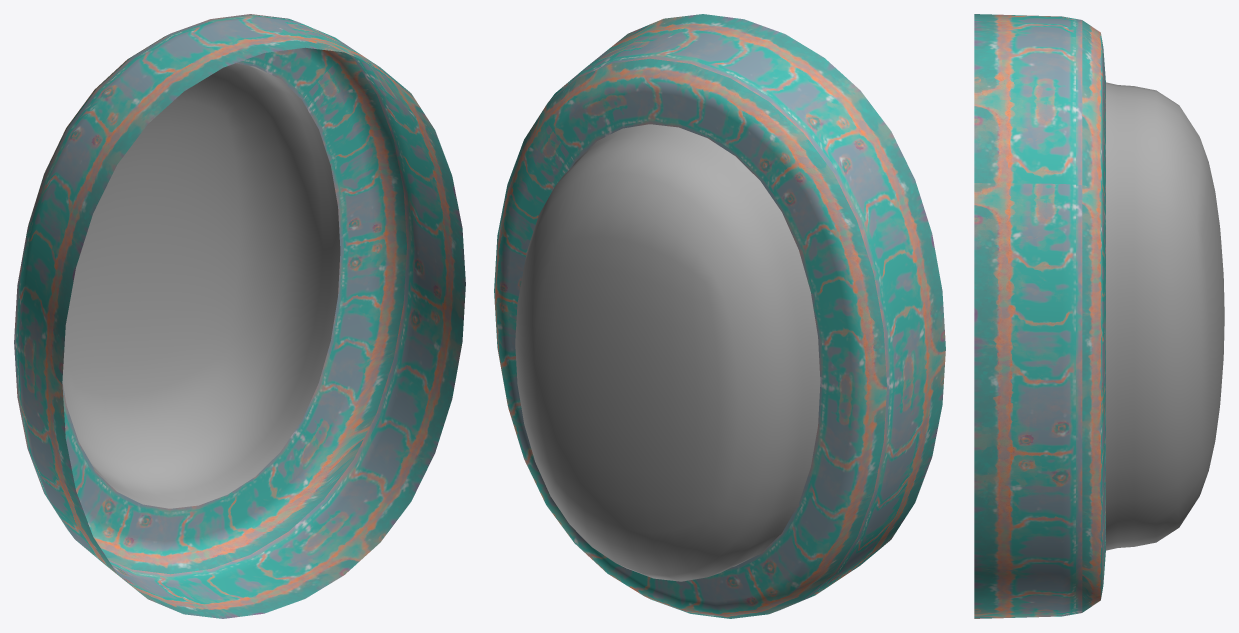
File: window_roof_01.fbx
The picture shows the model from 3 angles, left to right: view 1: azimuth 30°, elevation 25°; view 2: azimuth 150°, elevation 25°; view 3: azimuth 270°, elevation 25°; orthographic projection.
Parts seen in each view (by area): view 1: frame, glass; view 2: glass, frame; view 3: frame, glass.
Part boxes in pixels (box(x1,y1,x2,y2)): frame: box(14, 14, 465, 618); glass: box(62, 63, 340, 508); glass: box(515, 124, 820, 581); frame: box(494, 14, 945, 618); frame: box(974, 14, 1105, 618); glass: box(1106, 82, 1224, 550).
Size of the model in its own units: 130 by 172 by 69.39.
Materials: 2 (1 with a texture image).
